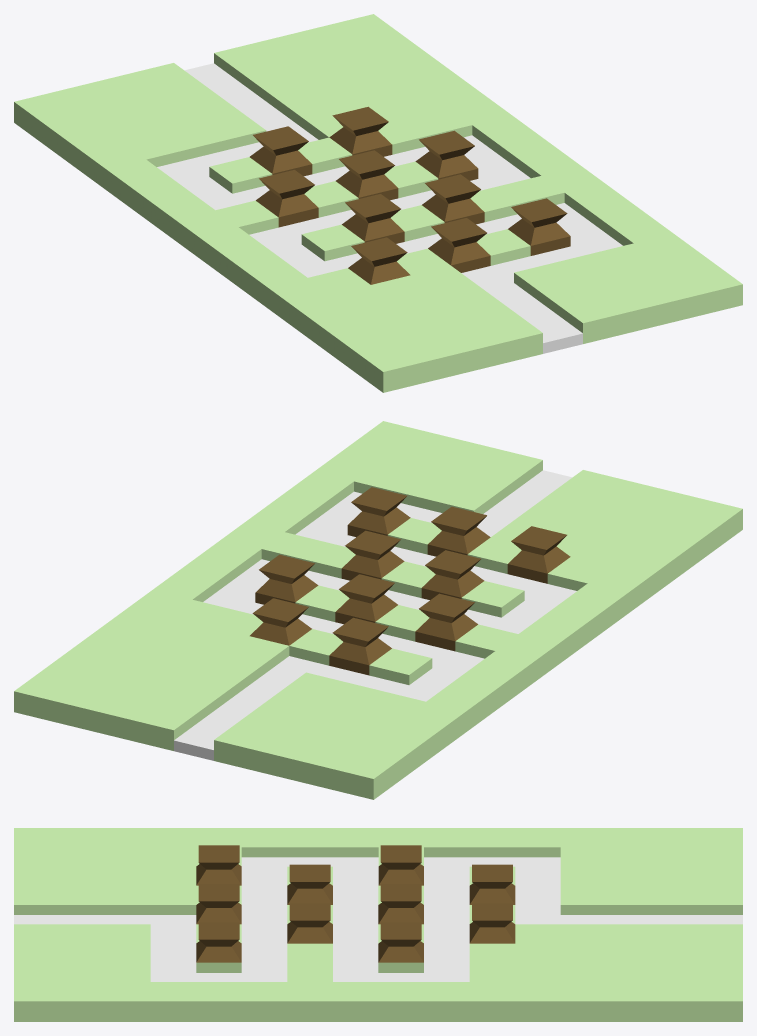
File: Level2.fbx
3 renders of one model, top to bottom at view 1: azimuth 30°, elevation 25°; view 2: azimuth 150°, elevation 25°; view 3: azimuth 270°, elevation 25°, orthographic.
Parts seen in each view (by area): view 1: Floor_Tile_1; view 2: Floor_Tile_1; view 3: Floor_Tile_1.
Part boxes in pixels (x1,y1,x2,y2): Floor_Tile_1: [14, 14, 742, 392]; Floor_Tile_1: [14, 421, 742, 799]; Floor_Tile_1: [14, 828, 742, 1021].
Bounding box in the file's own units: 1600 × 900 × 103.
